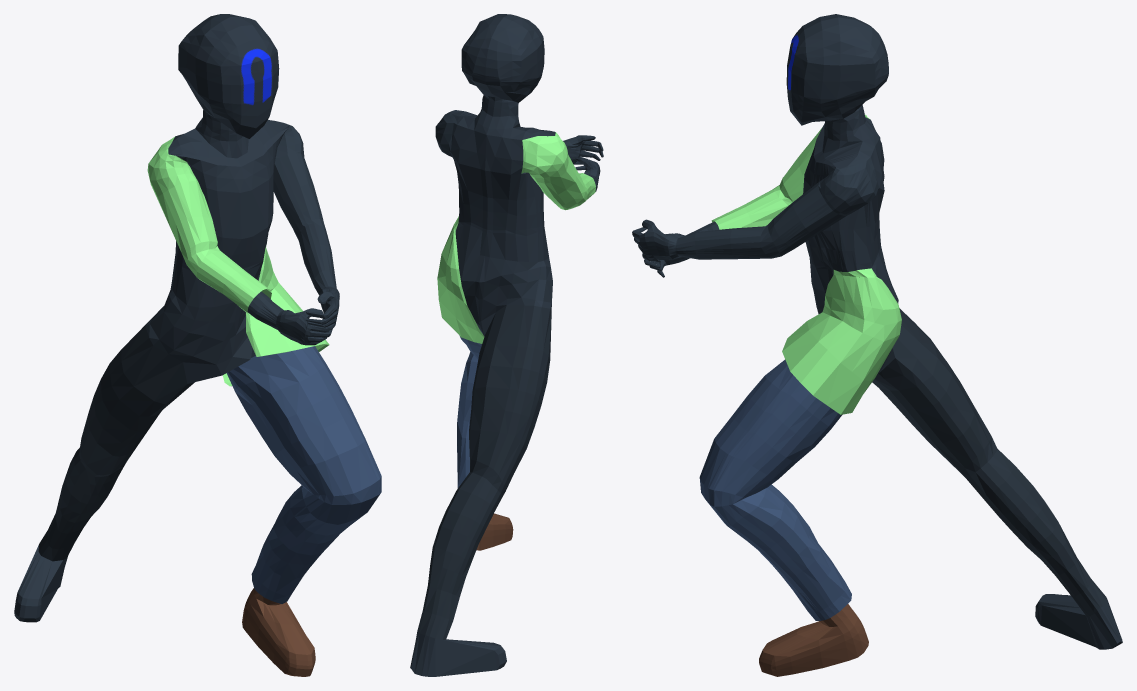
File: Mar_WB_000022.obj
3 renders of one model, left to right at view 1: azimuth 30°, elevation 25°; view 2: azimuth 150°, elevation 25°; view 3: azimuth 270°, elevation 25°, orthographic. The views are drawn at different scales.
Parts seen in each view (by area): view 1: Cube.000_Cube.001; view 2: Cube.000_Cube.001; view 3: Cube.000_Cube.001.
Boxes of the visible parts, left/top/right/bottom form: Cube.000_Cube.001: left=14, top=14, right=381, bottom=676; Cube.000_Cube.001: left=410, top=14, right=603, bottom=676; Cube.000_Cube.001: left=632, top=14, right=1122, bottom=676.
Bounding box in the file's own units: 1.13 × 3.57 × 2.44.
